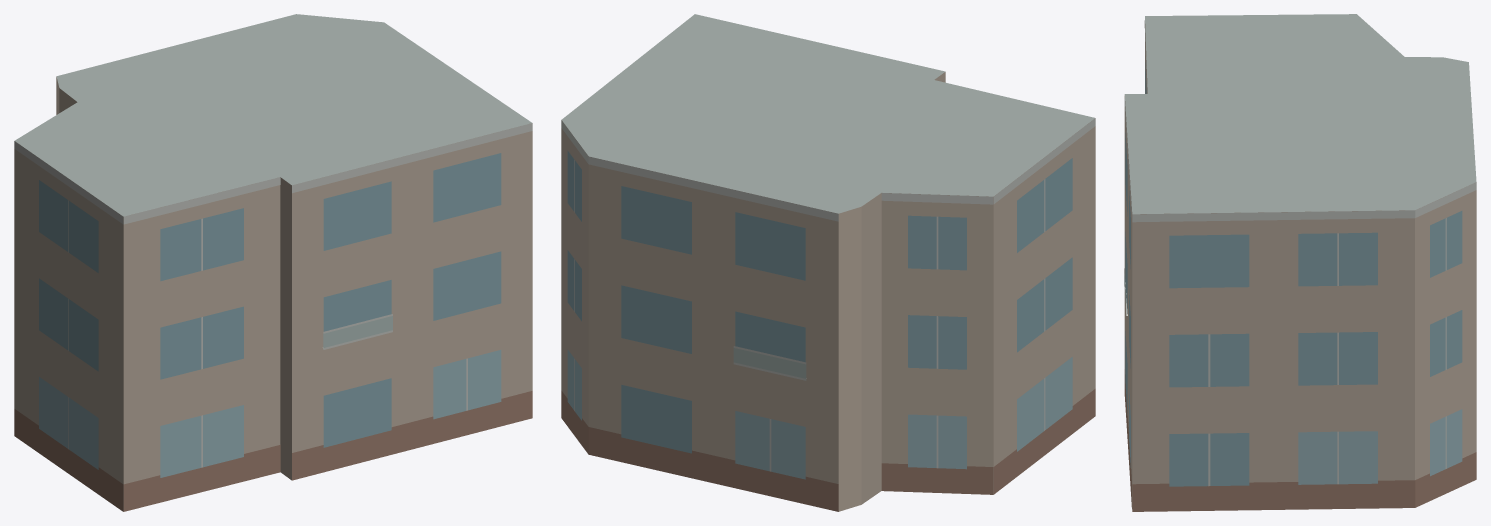
Rendered from survey-upis-32582559.glb.
3 views of the same model, side by side, from view 1: azimuth 30°, elevation 25°; view 2: azimuth 150°, elevation 25°; view 3: azimuth 270°, elevation 25° (orthographic).
Visible parts, largest first — view 1: survey-upis-32582559.tmp; view 2: survey-upis-32582559.tmp; view 3: survey-upis-32582559.tmp.
Part boxes in pixels (x1=…): survey-upis-32582559.tmp: x1=14, y1=14, x2=532, y2=511; survey-upis-32582559.tmp: x1=561, y1=14, x2=1095, y2=511; survey-upis-32582559.tmp: x1=1124, y1=14, x2=1476, y2=511.
Size of the model in its own units: 13.14 by 9.1 by 9.77.
